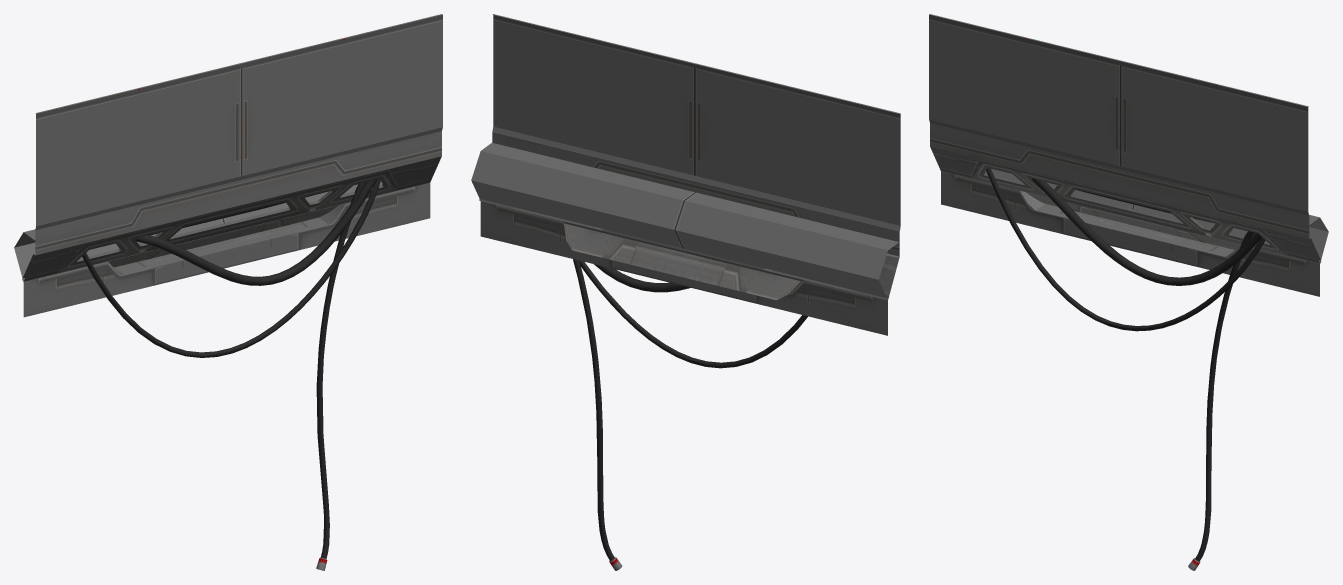
The model's file is sf_hanging_cables.glb.
3 views of the same model, side by side, from view 1: azimuth 30°, elevation 25°; view 2: azimuth 150°, elevation 25°; view 3: azimuth 330°, elevation 25° (orthographic). The views are drawn at different scales.
Parts seen in each view (by area): view 1: TopCables_Straight_Hanging; view 2: TopCables_Straight_Hanging; view 3: TopCables_Straight_Hanging.
Part boxes in pixels (bbox=[...]): TopCables_Straight_Hanging: bbox=[14, 14, 442, 570]; TopCables_Straight_Hanging: bbox=[471, 14, 900, 570]; TopCables_Straight_Hanging: bbox=[929, 14, 1328, 570].
Bounding box in the file's own units: 4 × 4.94 × 0.4421.
Materials: 3 (3 with a texture image).
